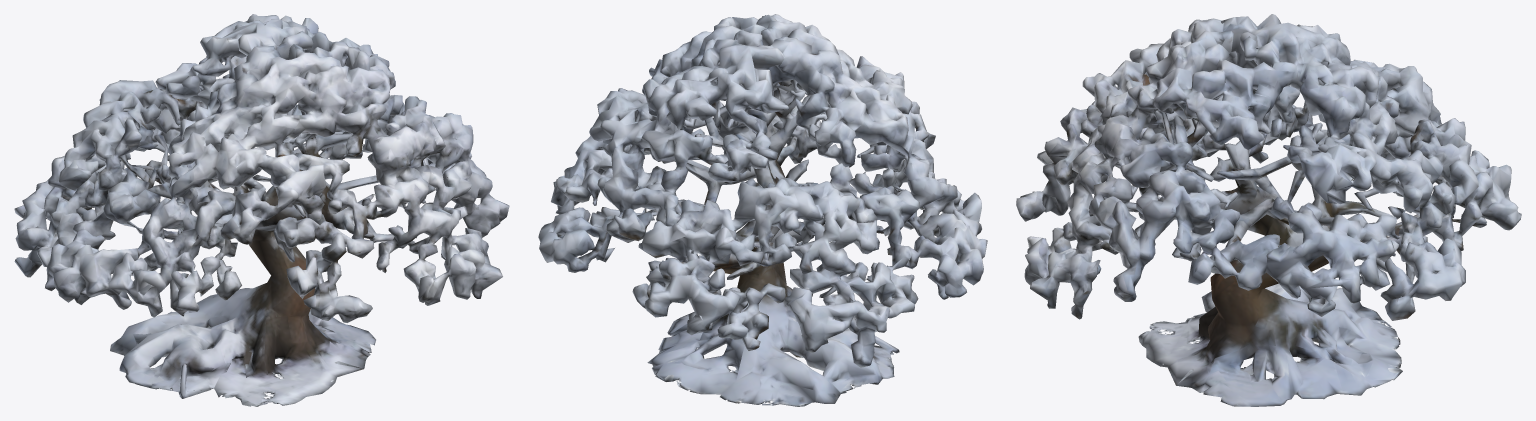
The model's file is winter_tree-checkpoint.obj.
3 views of the same model, side by side, from view 1: azimuth 30°, elevation 25°; view 2: azimuth 150°, elevation 25°; view 3: azimuth 270°, elevation 25° (orthographic). The views are drawn at different scales.
Parts seen in each view (by area): view 1: winter-tree8_LOW_RES; view 2: winter-tree8_LOW_RES; view 3: winter-tree8_LOW_RES.
Boxes of the visible parts, x1=… form: winter-tree8_LOW_RES: x1=14, y1=14, x2=509, y2=406; winter-tree8_LOW_RES: x1=538, y1=14, x2=987, y2=406; winter-tree8_LOW_RES: x1=1016, y1=14, x2=1521, y2=406.
Size of the model in its own units: 1.88 by 1.45 by 1.96.
